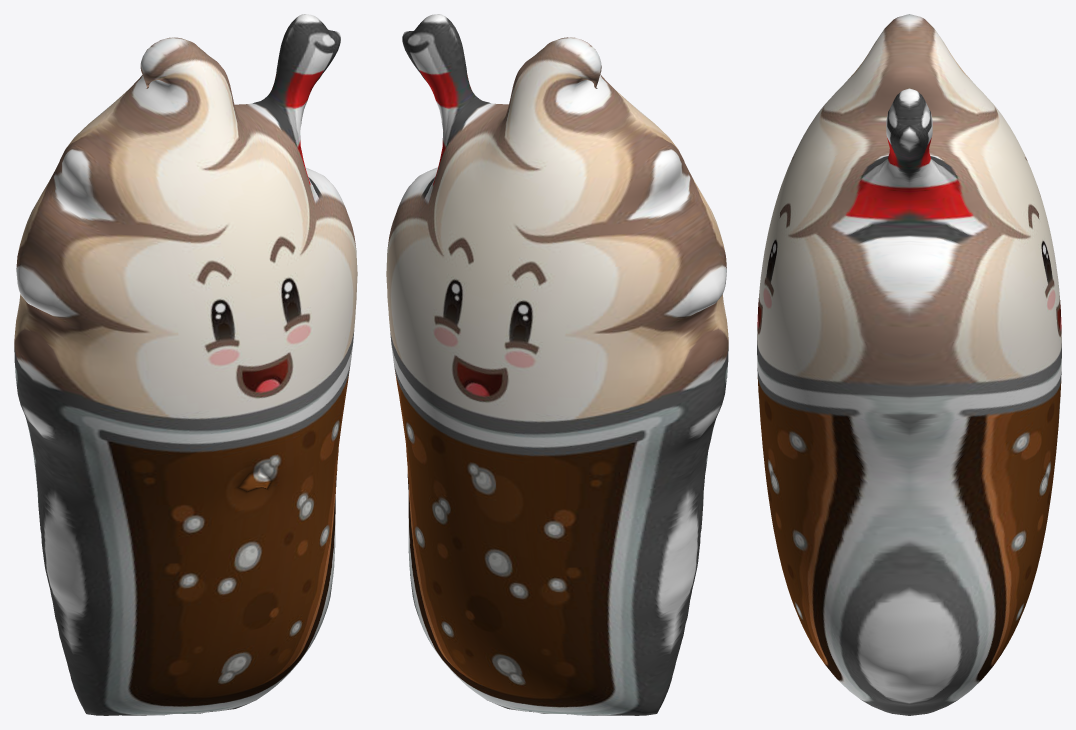
The model's file is mm_project (1).glb.
3 renders of one model, left to right at view 1: azimuth 30°, elevation 25°; view 2: azimuth 150°, elevation 25°; view 3: azimuth 270°, elevation 25°, orthographic.
Size of the model in its own units: 3.9 by 7.92 by 3.26.
Materials: 1 (1 with a texture image).
